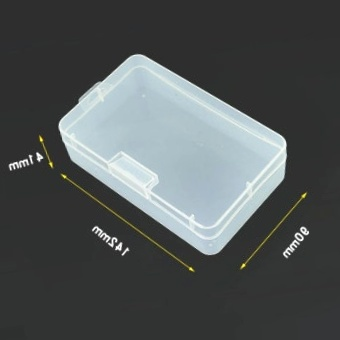plastic: (73, 56, 272, 161)
